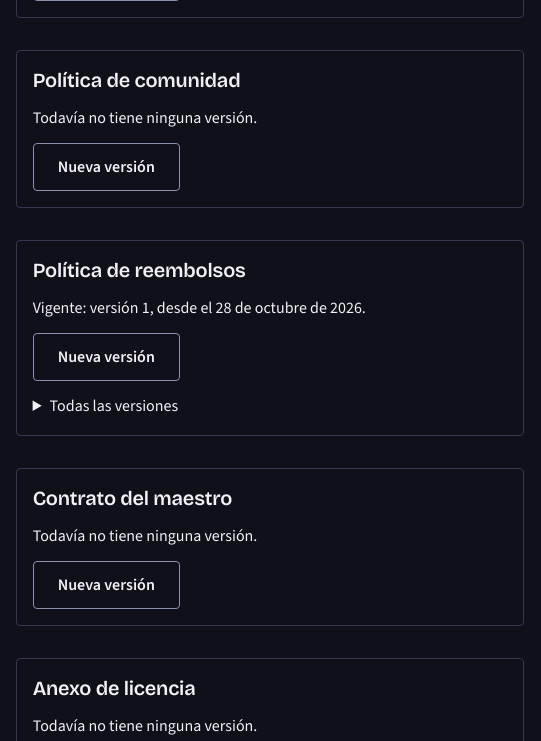
Test: PA-89, los textos legales › «Nueva versión» manda la última versión que se vio y abre el formulario en su lugar, con el título de la última
This screenshot has width=541, height=741.
(page scrolled)
Click the button named "Nueva versión de Política de reembolsos". click: (106, 357)
box: [33,333,180,381]
(page scrolled)
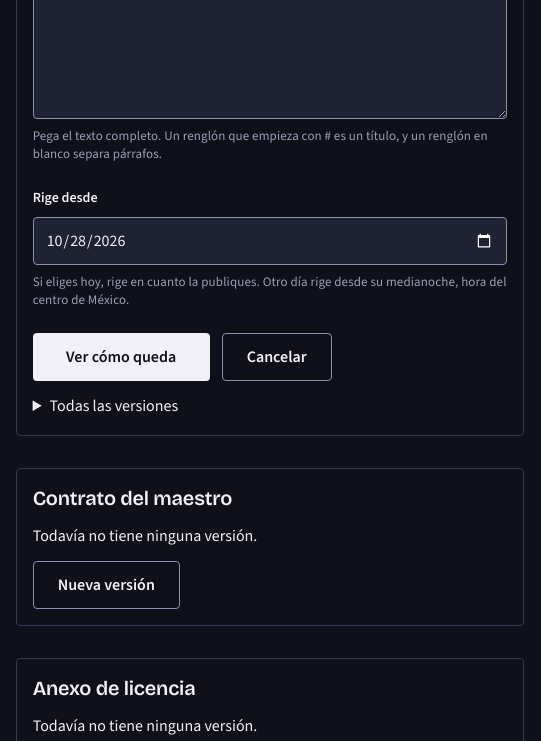
Now the date field labelled "Rige desde" holds "2026-10-28", box [33,217,507,265]
